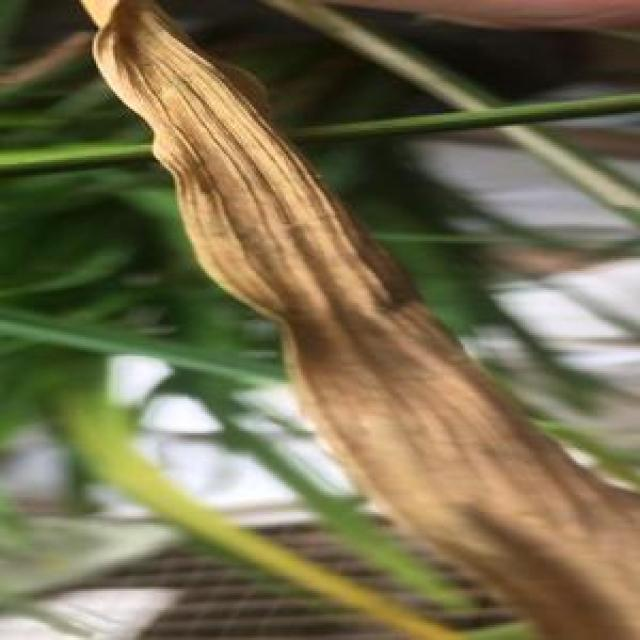Bacterial_Blight: (80, 0, 640, 640), (273, 0, 640, 235)
